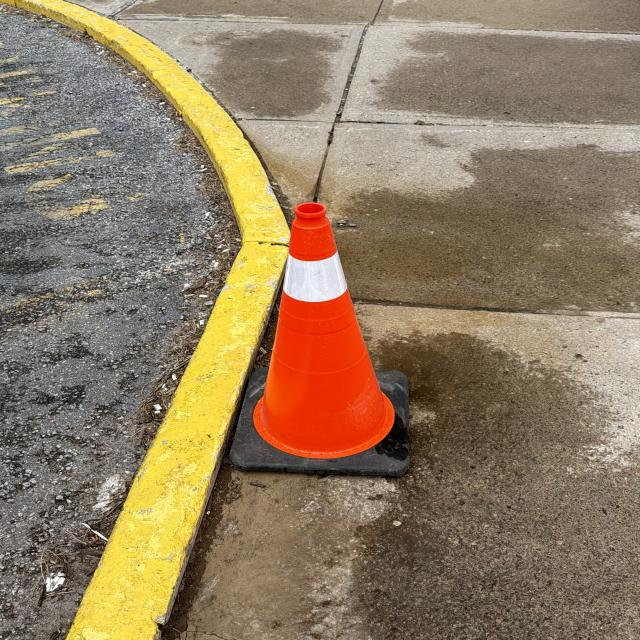Traffic Cone: (228, 201, 416, 473)
